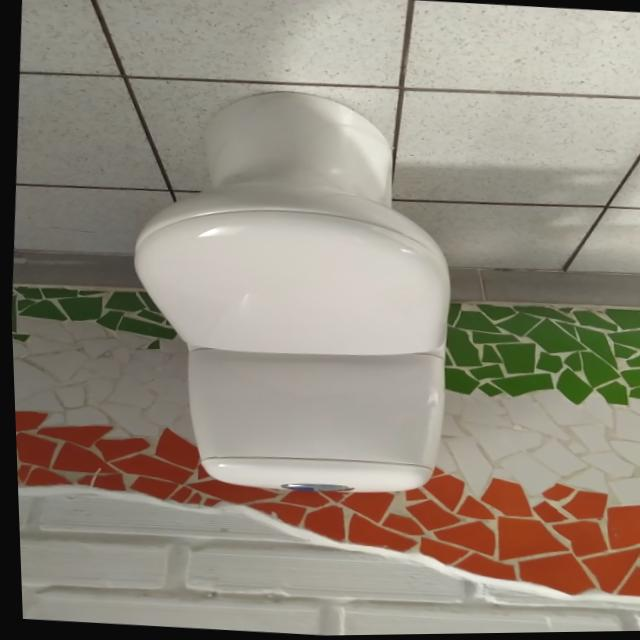toilet: (110, 80, 469, 505)
